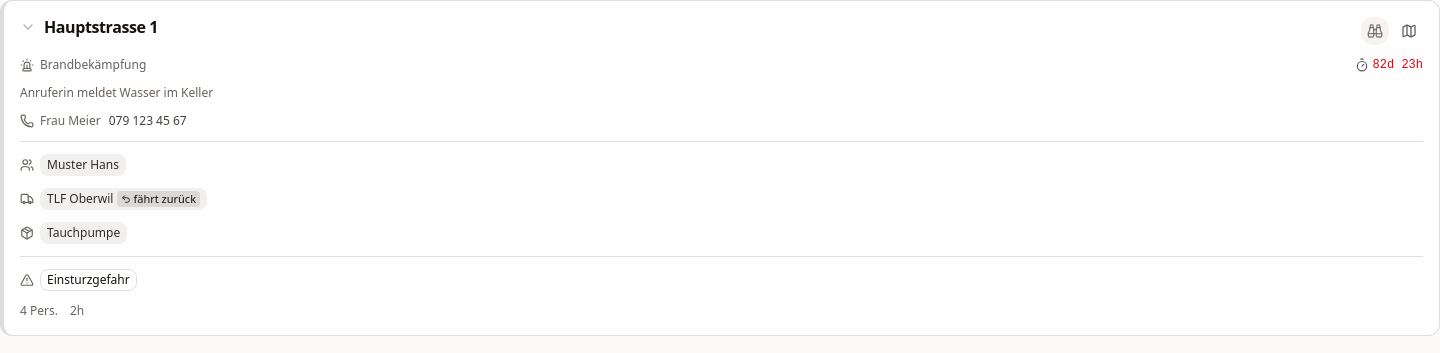
a chip on a touch screen › offers no promotion to a viewer
What coordinates should you click on to do the following:
click the button "Muster Hans"
I would click on:
 (83, 165)
Its box is [40, 154, 126, 176].
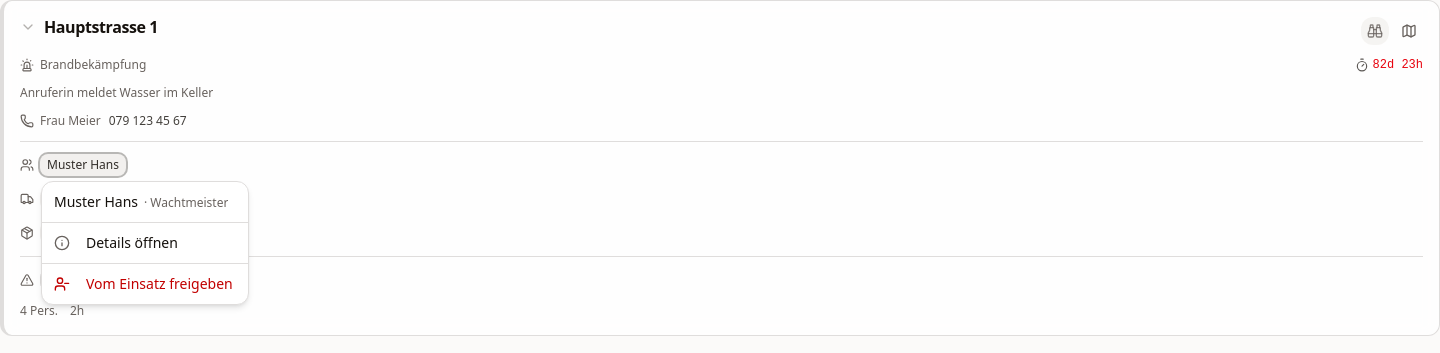
Check: the menu "Muster Hans" is shown, box [41, 181, 249, 305]
